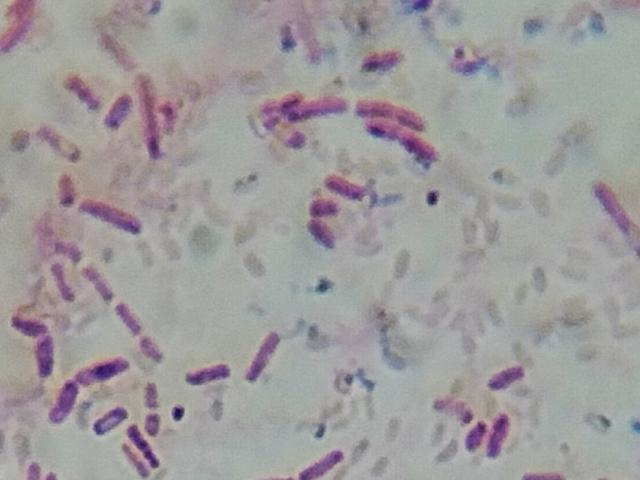E. coli: (586, 181, 640, 253), (139, 73, 178, 169), (363, 125, 439, 168), (355, 95, 433, 131), (282, 447, 362, 480), (247, 330, 291, 387), (81, 199, 151, 233), (1, 0, 34, 55), (40, 117, 79, 160), (28, 335, 63, 381), (359, 45, 406, 79), (102, 95, 140, 134), (325, 172, 368, 206), (488, 359, 529, 391), (76, 360, 128, 385), (482, 410, 510, 456), (48, 265, 79, 305), (265, 106, 290, 152), (286, 98, 353, 115), (63, 70, 95, 105), (83, 262, 111, 302), (129, 423, 161, 458), (49, 385, 79, 422), (461, 416, 490, 453), (305, 220, 335, 255), (116, 302, 146, 336), (185, 363, 227, 386), (23, 456, 62, 480), (93, 407, 127, 432), (122, 446, 150, 474), (13, 310, 50, 331), (58, 170, 78, 208), (133, 339, 163, 361), (309, 196, 337, 219), (55, 239, 86, 259), (142, 382, 162, 408), (143, 414, 167, 433), (525, 469, 560, 480)
